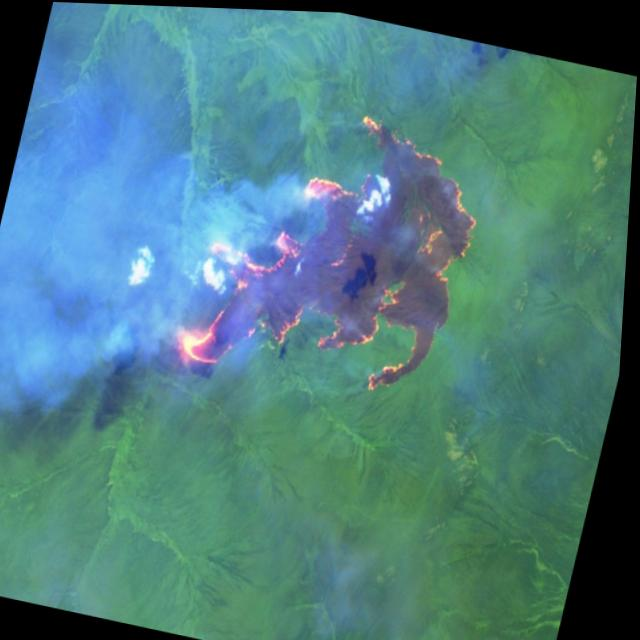fire: (150, 54, 510, 430)
